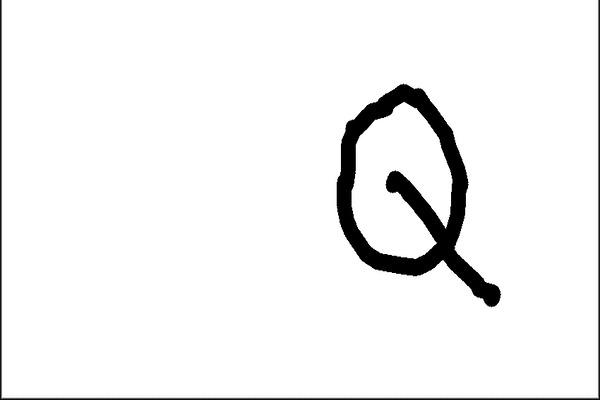Q: (329, 69, 509, 322)
